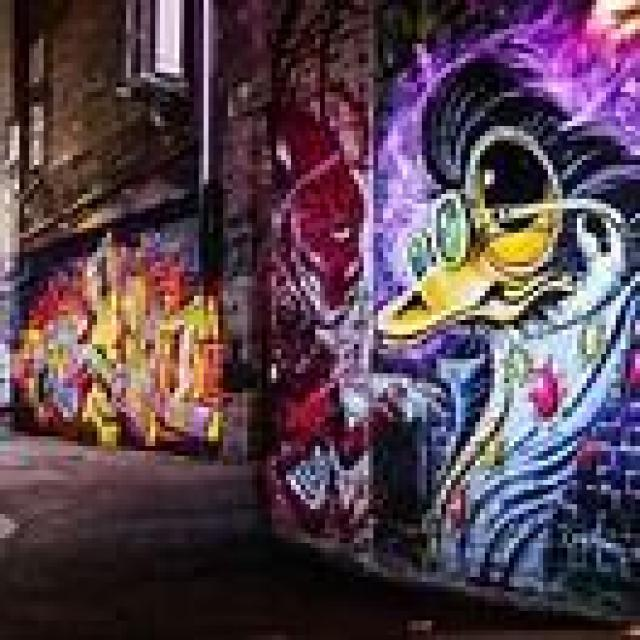nonspitting: (10, 228, 222, 448)
spitting: (378, 38, 638, 590), (266, 106, 368, 528)
